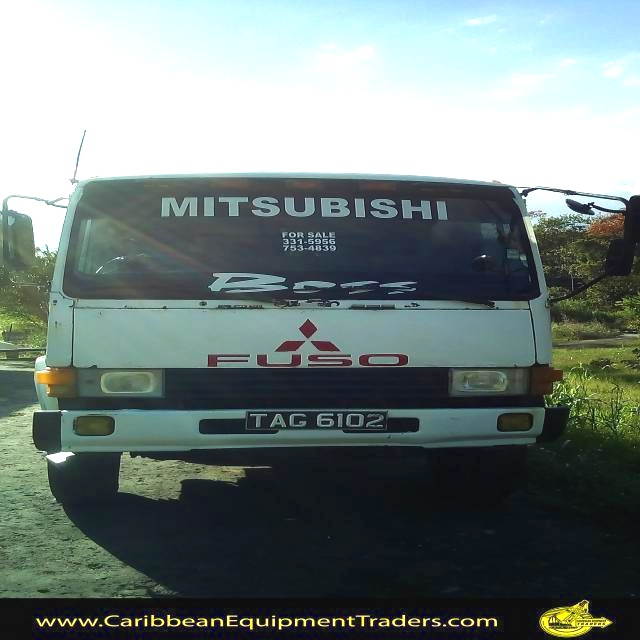truck: (1, 124, 640, 519)
